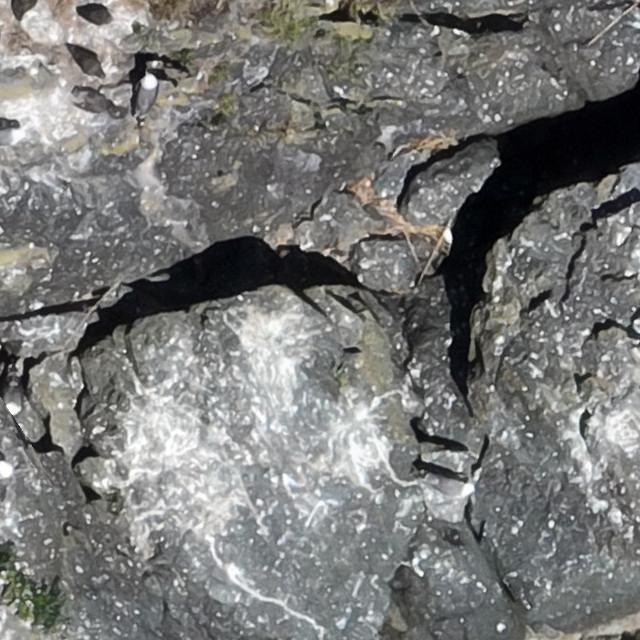umineko: (137, 78, 156, 112), (6, 381, 23, 415), (1, 126, 19, 144)
